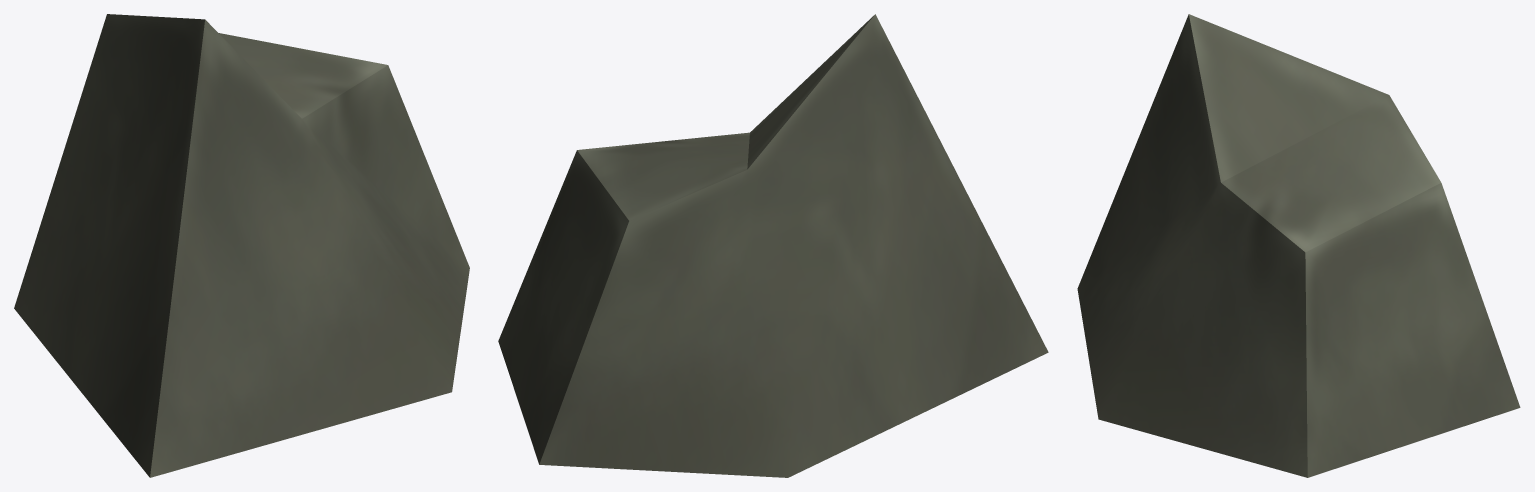
The model's file is Rock Small #1.fbx.
3 views of the same model, side by side, from view 1: azimuth 30°, elevation 25°; view 2: azimuth 150°, elevation 25°; view 3: azimuth 270°, elevation 25° (orthographic). The views are drawn at different scales.
Parts seen in each view (by area): view 1: Rock Small #1; view 2: Rock Small #1; view 3: Rock Small #1.
Boxes of the visible parts, x1,y1,x2,y2 form: Rock Small #1: (14,14,469,477); Rock Small #1: (498,14,1048,477); Rock Small #1: (1077,14,1520,477).
Bounding box in the file's own units: 48.42 × 38.77 × 47.91.
Materials: 1 (1 with a texture image).
